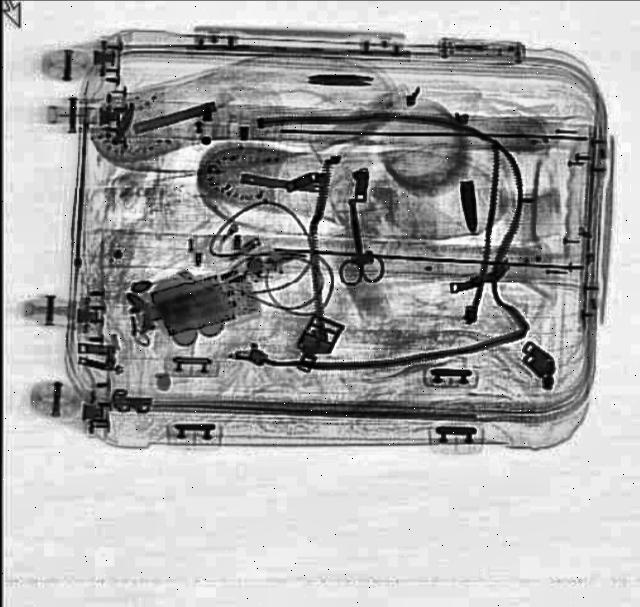Scissors: (329, 202, 389, 288)
